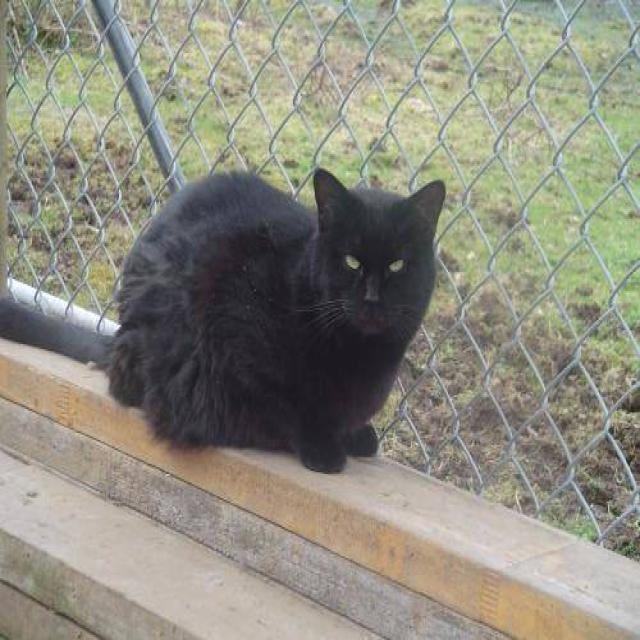cat: (0, 164, 445, 473)
